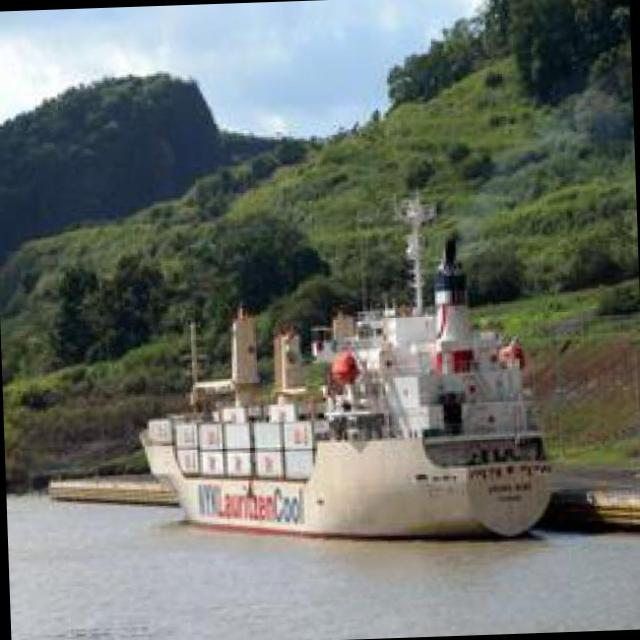boat: (112, 301, 577, 554)
